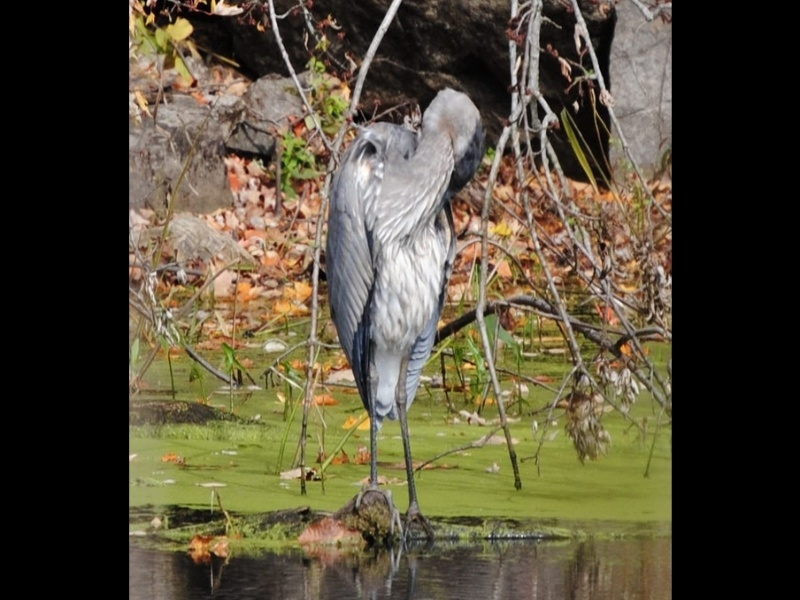heron: (328, 84, 484, 536)
